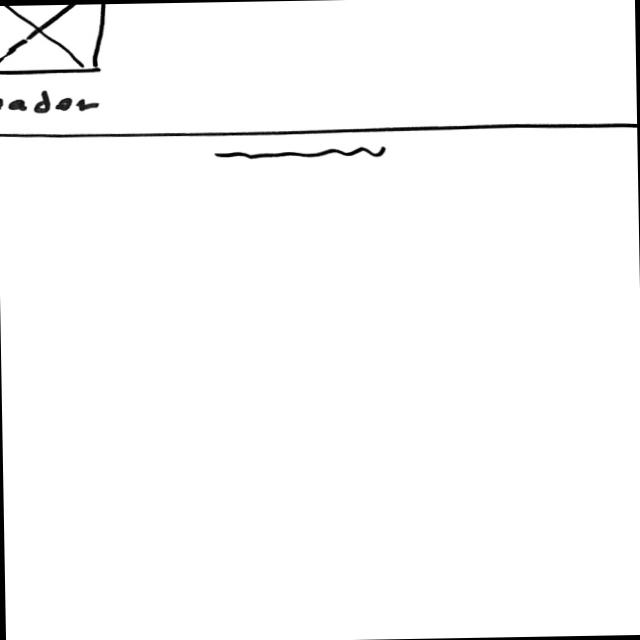image: (0, 3, 112, 76)
label: (0, 82, 104, 116)
text: (212, 141, 388, 166)
